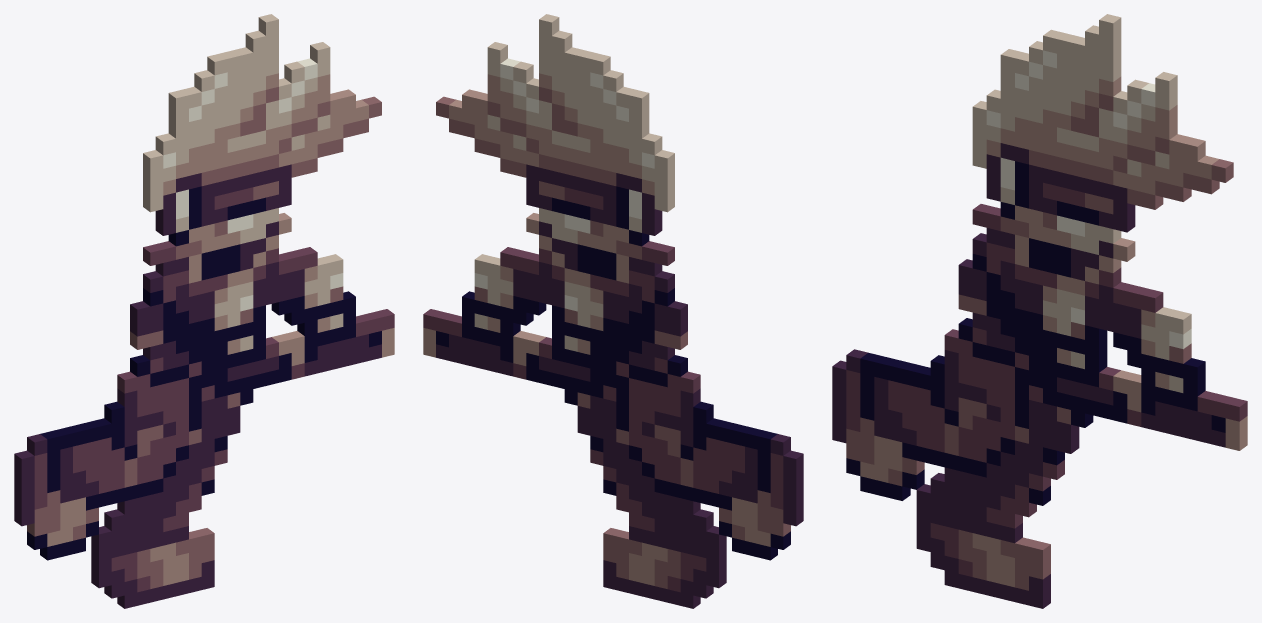
Rendered from RunRightShoot5.obj.
The picture shows the model from 3 angles, left to right: view 1: azimuth 30°, elevation 25°; view 2: azimuth 150°, elevation 25°; view 3: azimuth 330°, elevation 25°; orthographic projection. The views are drawn at different scales.
Parts seen in each view (by area): view 1: RunRightShoot5; view 2: RunRightShoot5; view 3: RunRightShoot5.
Part boxes in pixels (box(x1,y1,x2,y2)): RunRightShoot5: box(14, 14, 394, 608); RunRightShoot5: box(423, 14, 803, 608); RunRightShoot5: box(832, 14, 1247, 608).
Bounding box in the file's own units: 2.9 × 4.1 × 0.1.
Materials: 1 (1 with a texture image).
